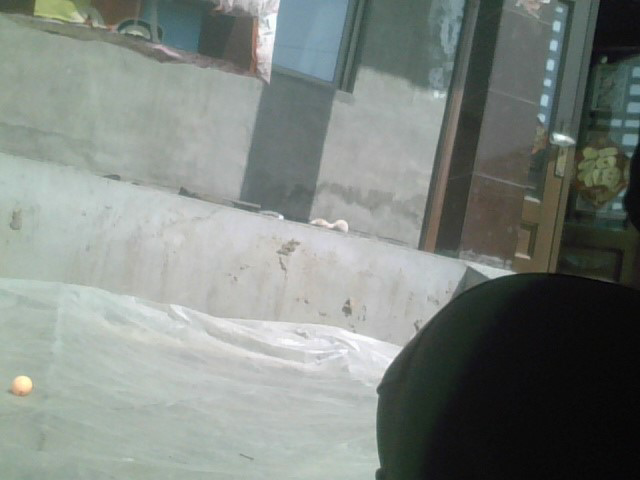ball: (11, 373, 32, 395)
